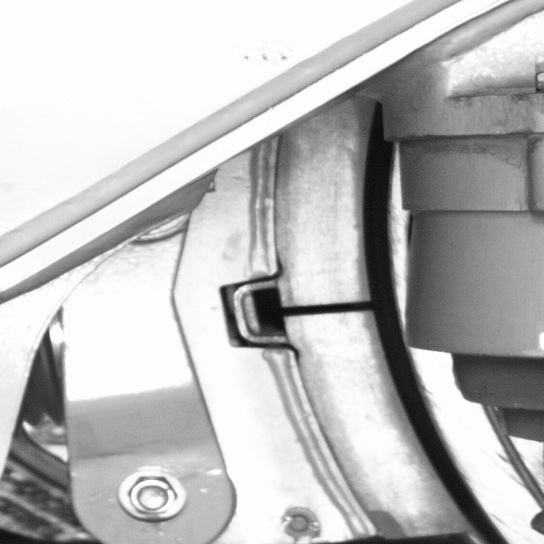KnifeSwitch: (290, 135, 511, 541)
